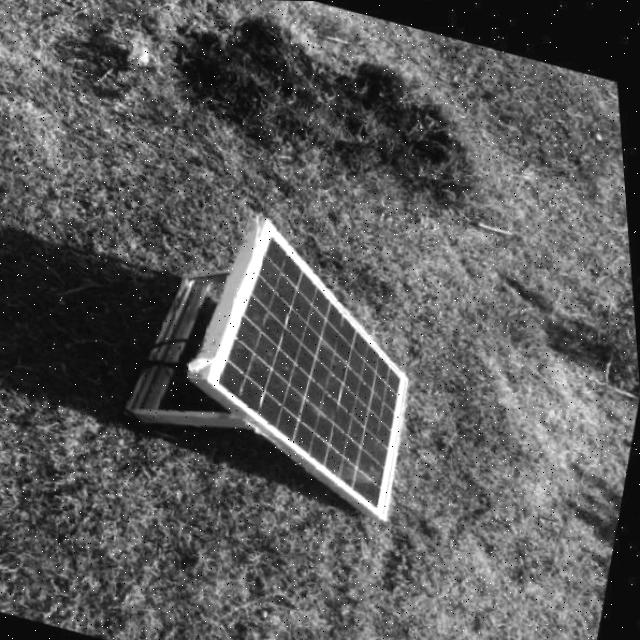Normal Solar Panel: (180, 208, 454, 522)
